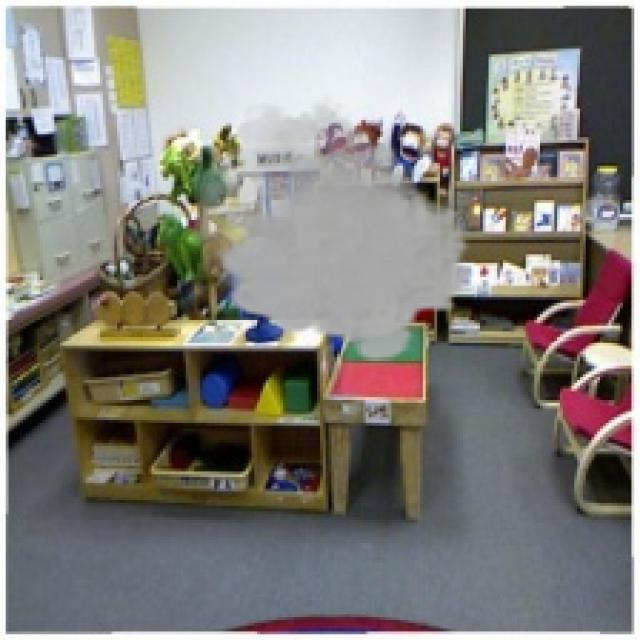smoke: (194, 94, 477, 363)
